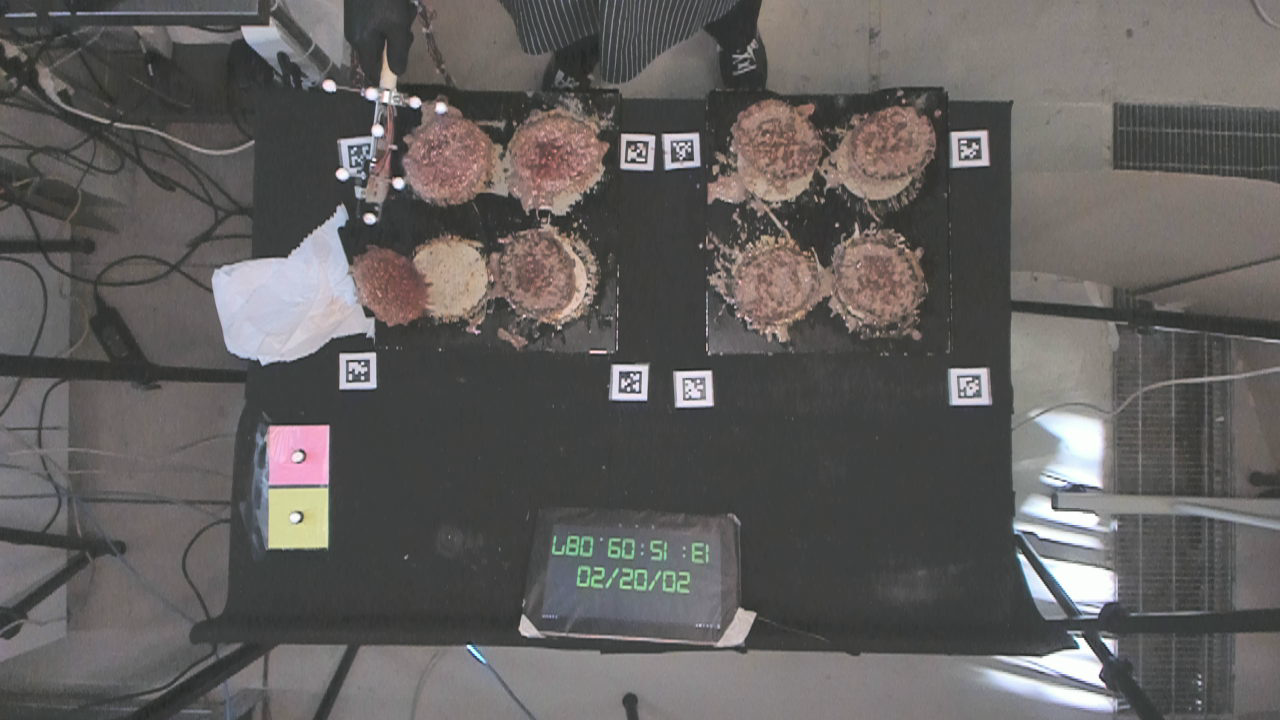hamburger: (510, 116, 597, 198), (727, 99, 819, 176), (837, 237, 918, 324), (500, 227, 577, 316), (734, 245, 819, 321), (404, 122, 486, 198), (854, 104, 933, 177), (358, 246, 426, 326)
marker: (266, 424, 329, 486)
